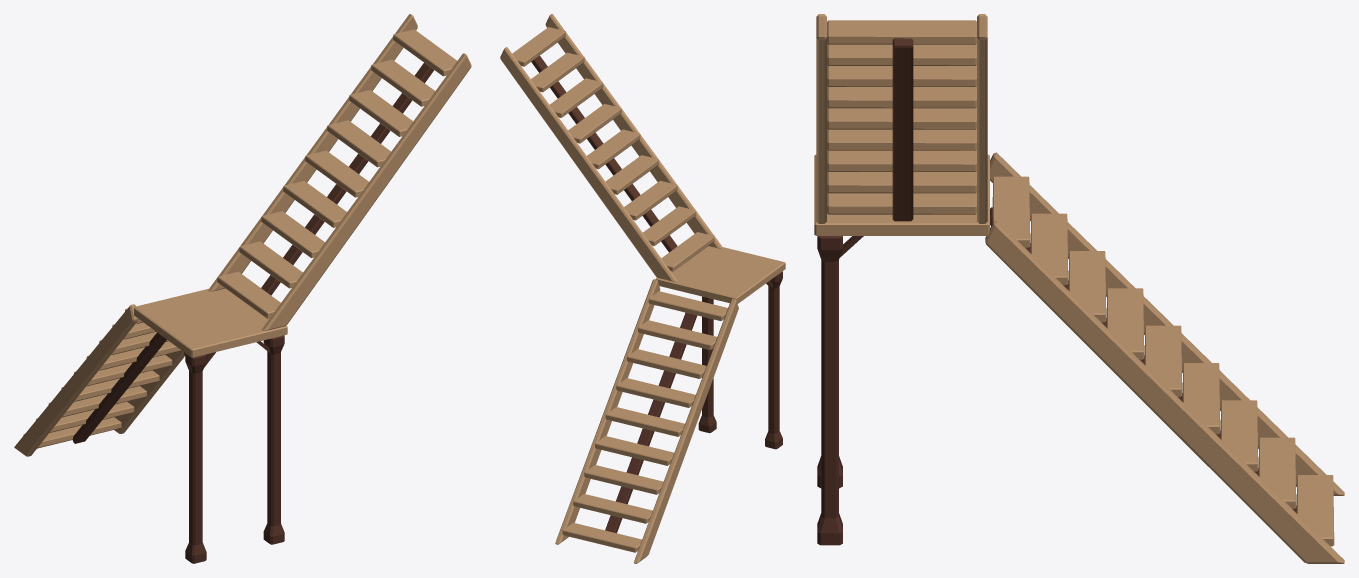
The model's file is corner-stairs.glb.
3 renders of one model, left to right at view 1: azimuth 30°, elevation 25°; view 2: azimuth 150°, elevation 25°; view 3: azimuth 270°, elevation 25°, orthographic. The views are drawn at different scales.
Parts seen in each view (by area): view 1: Corner Stairs (×2); view 2: Corner Stairs (×2); view 3: Corner Stairs (×2).
Part boxes in pixels (x1=…): Corner Stairs (×2): x1=14, y1=14, x2=471, y2=563; Corner Stairs (×2): x1=500, y1=14, x2=785, y2=563; Corner Stairs (×2): x1=814, y1=14, x2=1344, y2=563.
Bounding box in the file's own units: 2.86 × 4.39 × 3.1.
